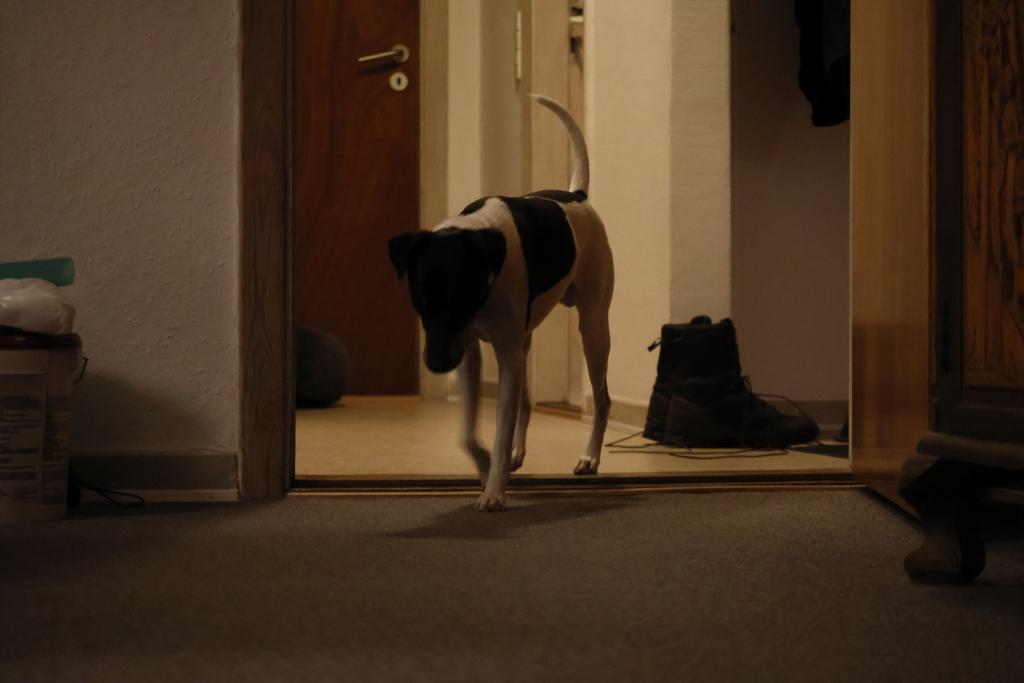Dog: (381, 90, 621, 518)
